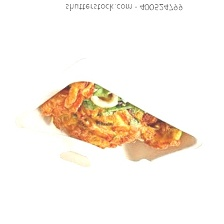foam_box: (6, 55, 208, 205)
